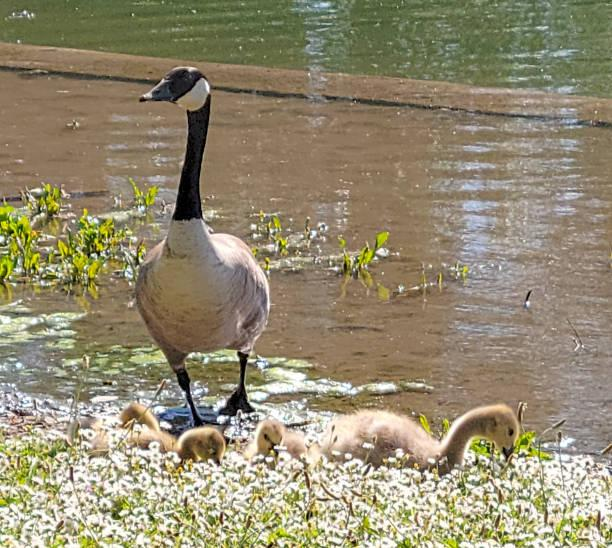Canadian-Goose: (129, 64, 273, 412), (330, 399, 521, 483), (129, 420, 228, 464), (247, 419, 305, 455)
